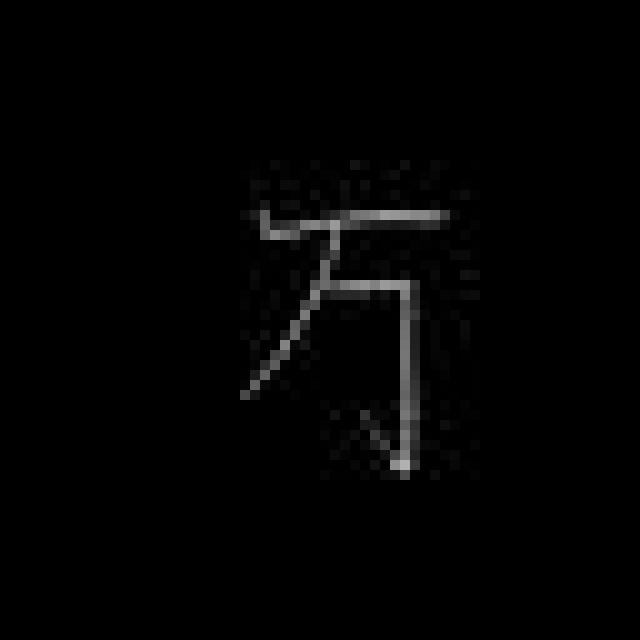10000 -a ten thousand-: (228, 182, 460, 490)
